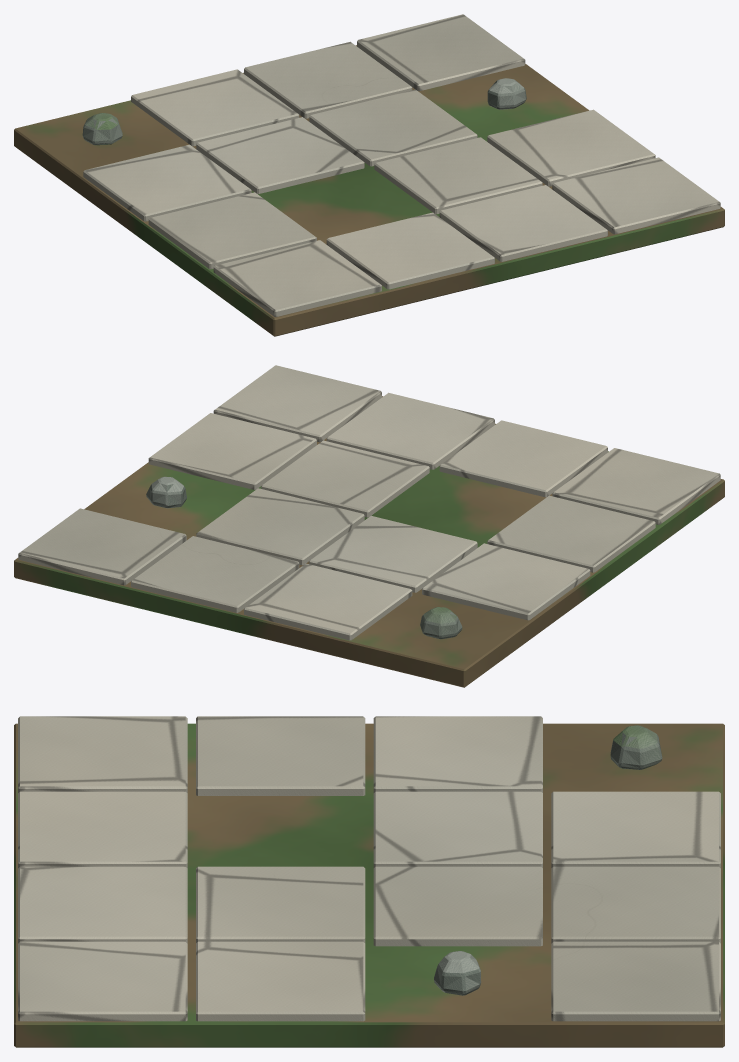
Rendered from t05_transition_broken.fbx.
The picture shows the model from 3 angles, top to bottom: view 1: azimuth 30°, elevation 25°; view 2: azimuth 150°, elevation 25°; view 3: azimuth 270°, elevation 25°; orthographic projection. The views are drawn at different scales.
Visible parts, largest first — view 1: t05_transition_broken.004; view 2: t05_transition_broken.004; view 3: t05_transition_broken.004.
Part boxes in pixels (x1,y1,x2,y2): t05_transition_broken.004: (14, 14, 724, 336); t05_transition_broken.004: (14, 365, 724, 687); t05_transition_broken.004: (14, 716, 724, 1047).
Bounding box in the file's own units: 25600 × 25600 × 2200.
